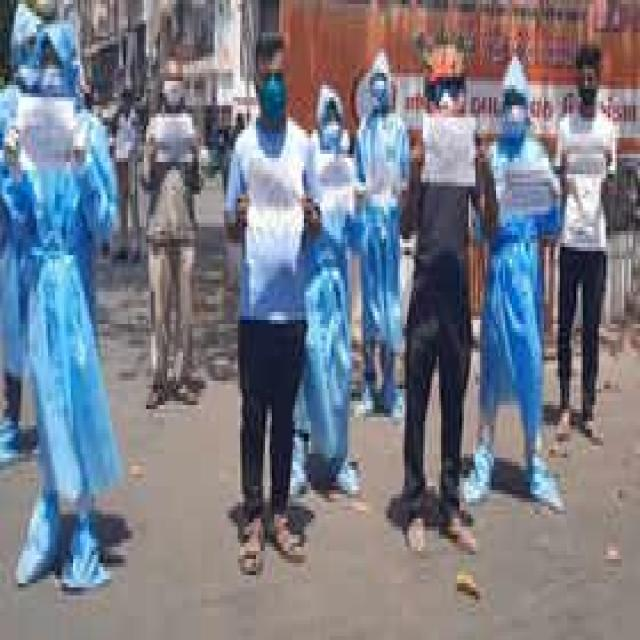Coverall: (460, 16, 579, 555), (19, 0, 108, 604), (288, 65, 361, 502), (332, 16, 412, 405)
Mask: (240, 85, 293, 146), (311, 105, 347, 158), (496, 101, 526, 134), (359, 81, 393, 109)
